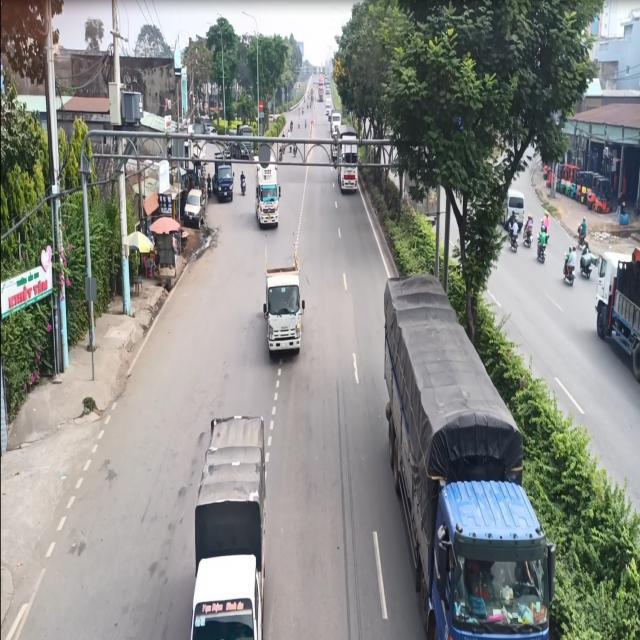truck: (374, 274, 552, 638), (190, 410, 290, 640), (593, 247, 639, 383), (255, 260, 308, 372), (254, 150, 290, 227)
